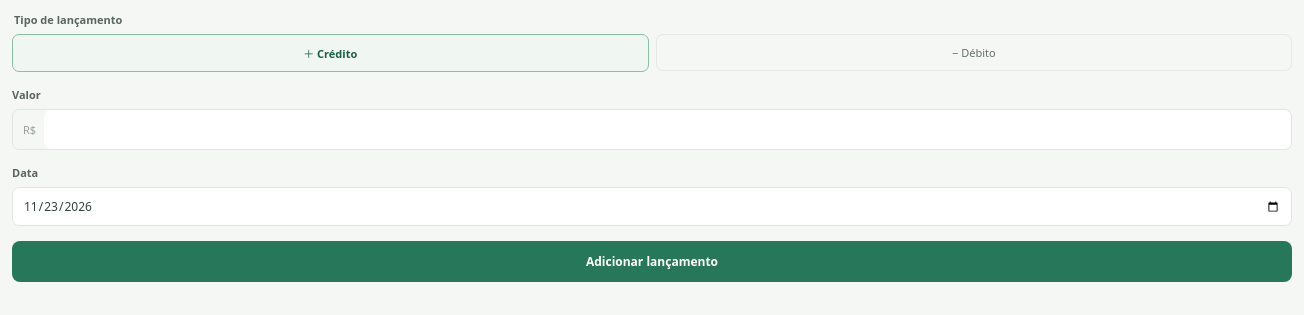
Test: LancamentoForm › não envia um valor vazio e apresenta erro de validação
Click the button "Adicionar lançamento" at (652, 262), box [12,241,1292,282]
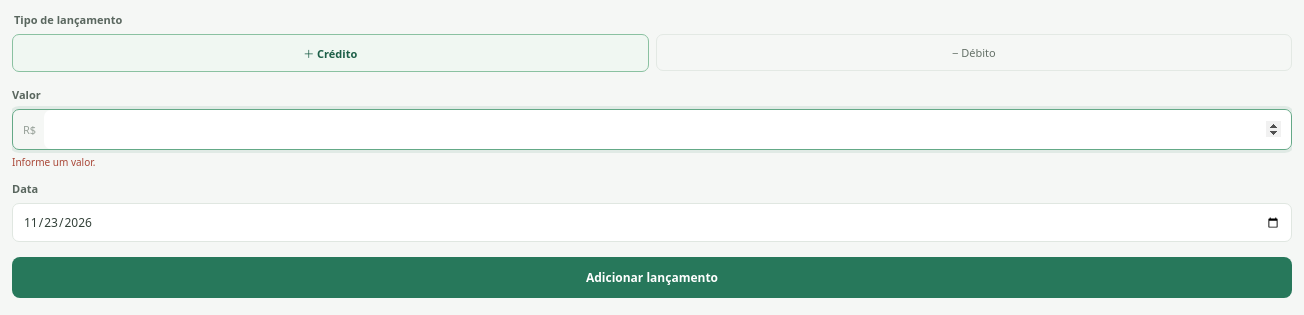
Result: the text "Informe um valor." is shown at [12,155,96,169]
